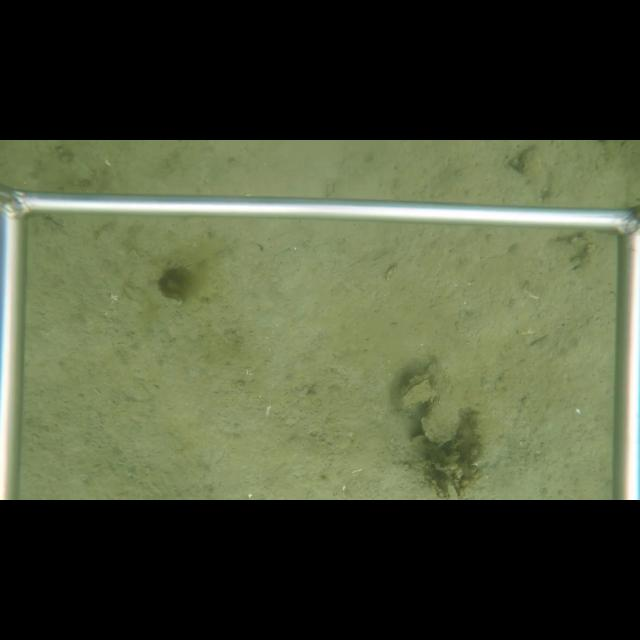Oyster-Closed: (419, 398, 464, 444), (399, 372, 437, 406)
